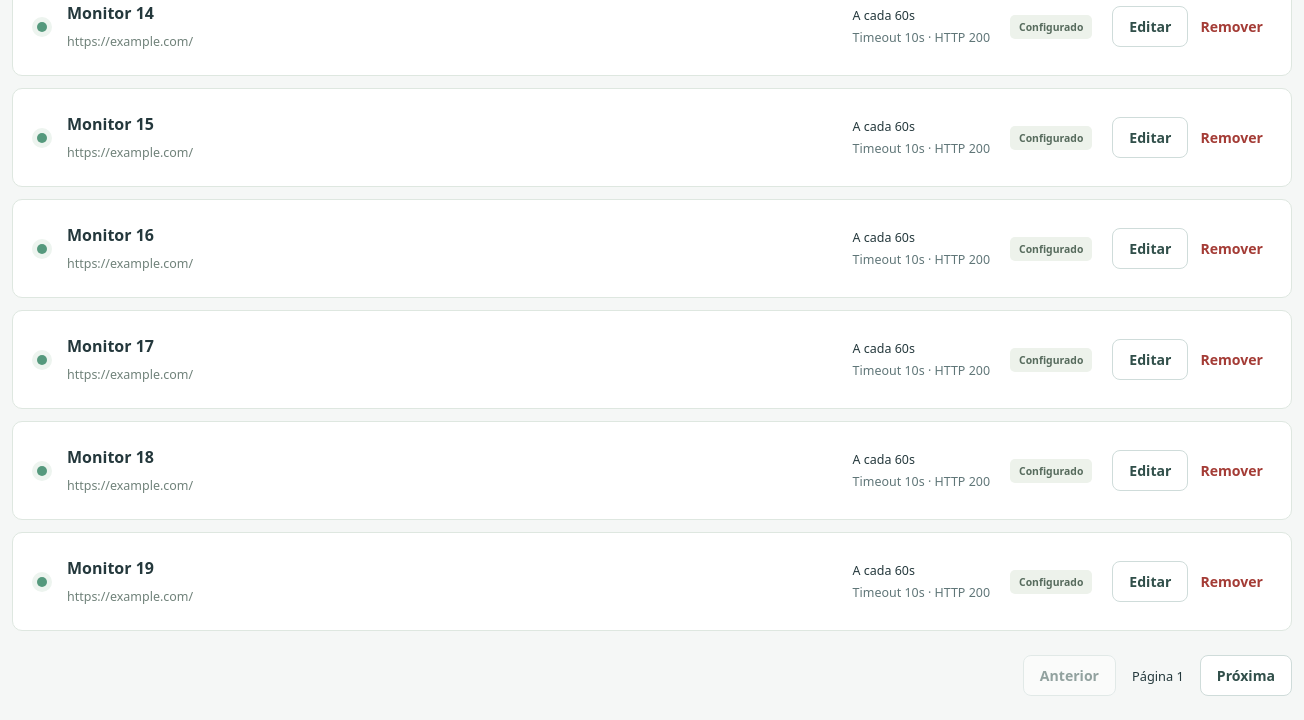
Test: MonitorDashboard › paginates the bounded list
(page scrolled)
Click the button "Próxima" at (1246,676), box [1200,655,1292,696]
(page scrolled)
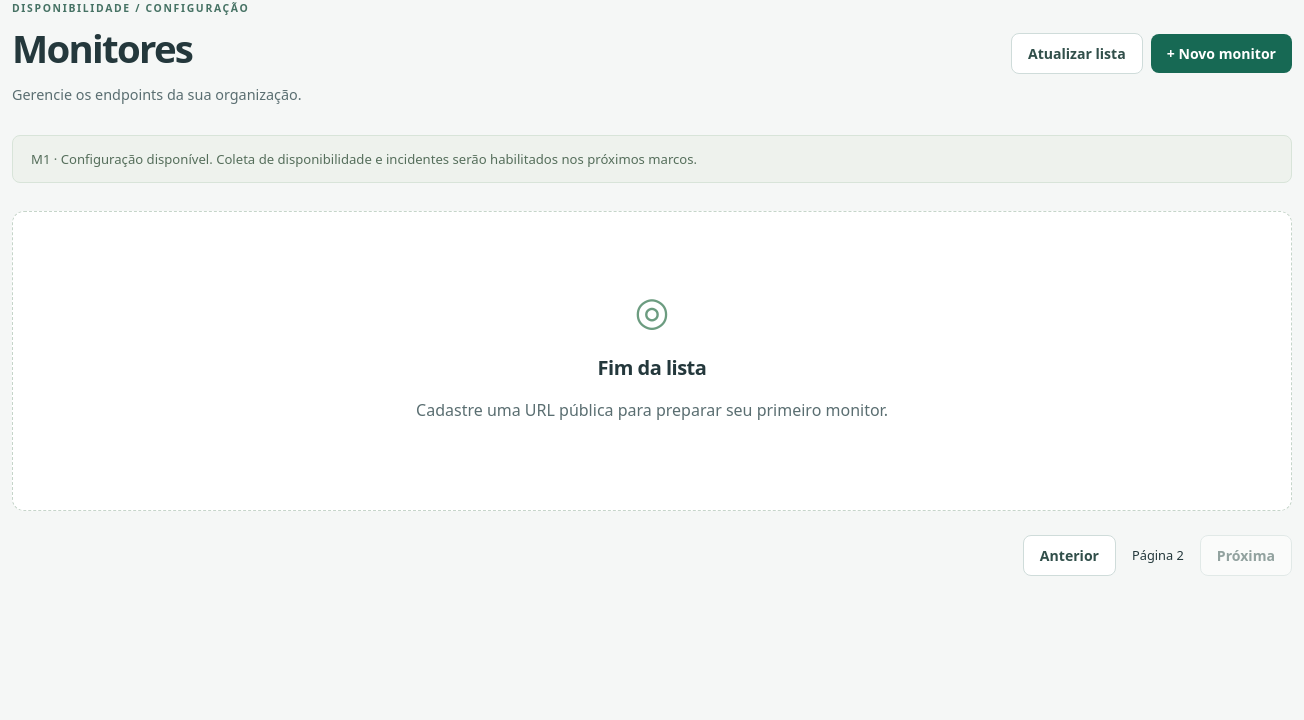
Expected: the heading "Fim da lista" is shown, [598,354,706,381]
